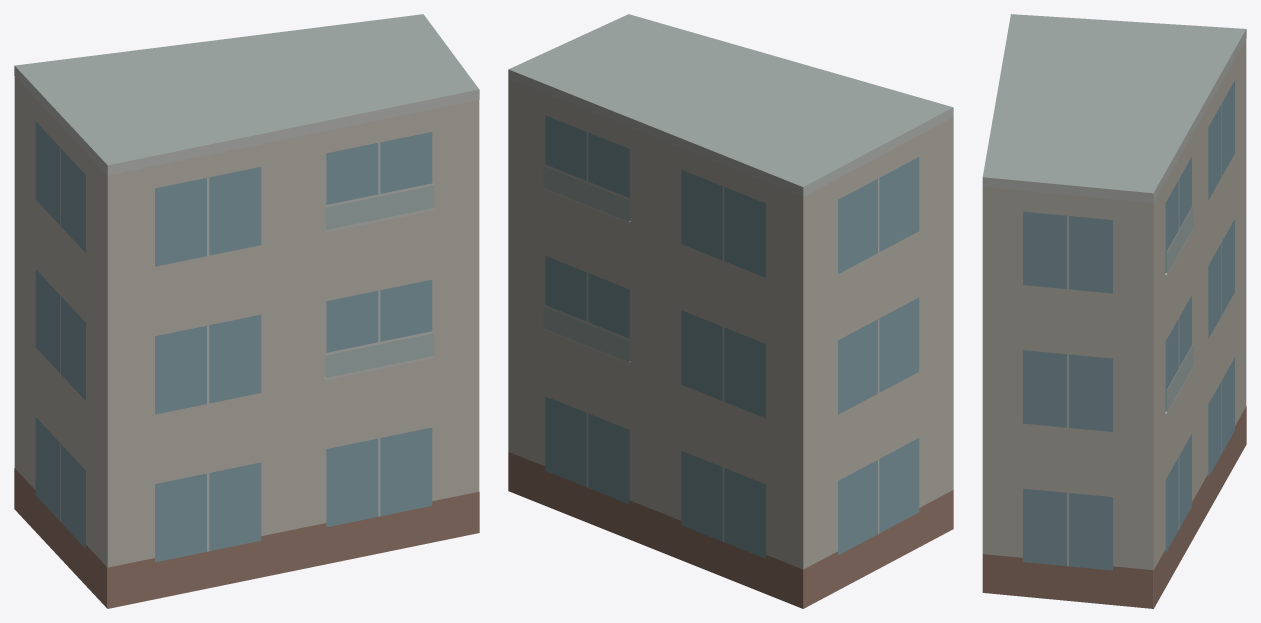
The model's file is survey-upis-32902508.glb.
3 renders of one model, left to right at view 1: azimuth 30°, elevation 25°; view 2: azimuth 150°, elevation 25°; view 3: azimuth 270°, elevation 25°, orthographic. The views are drawn at different scales.
Visible parts, largest first — view 1: survey-upis-32902508.tmp; view 2: survey-upis-32902508.tmp; view 3: survey-upis-32902508.tmp.
Boxes of the visible parts, left/top/right/bottom form: survey-upis-32902508.tmp: left=14, top=14, right=479, bottom=608; survey-upis-32902508.tmp: left=508, top=14, right=953, bottom=608; survey-upis-32902508.tmp: left=982, top=14, right=1246, bottom=608.
Bounding box in the file's own units: 9.77 × 10.55 × 6.08.
